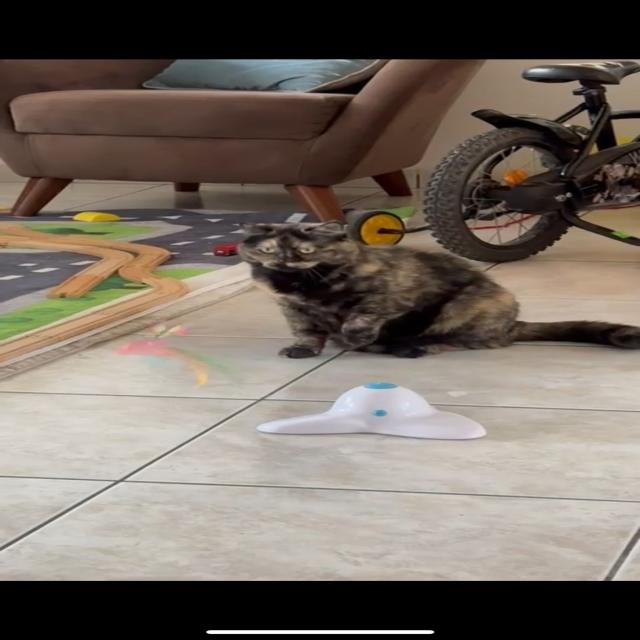authorized: (234, 220, 638, 360)
